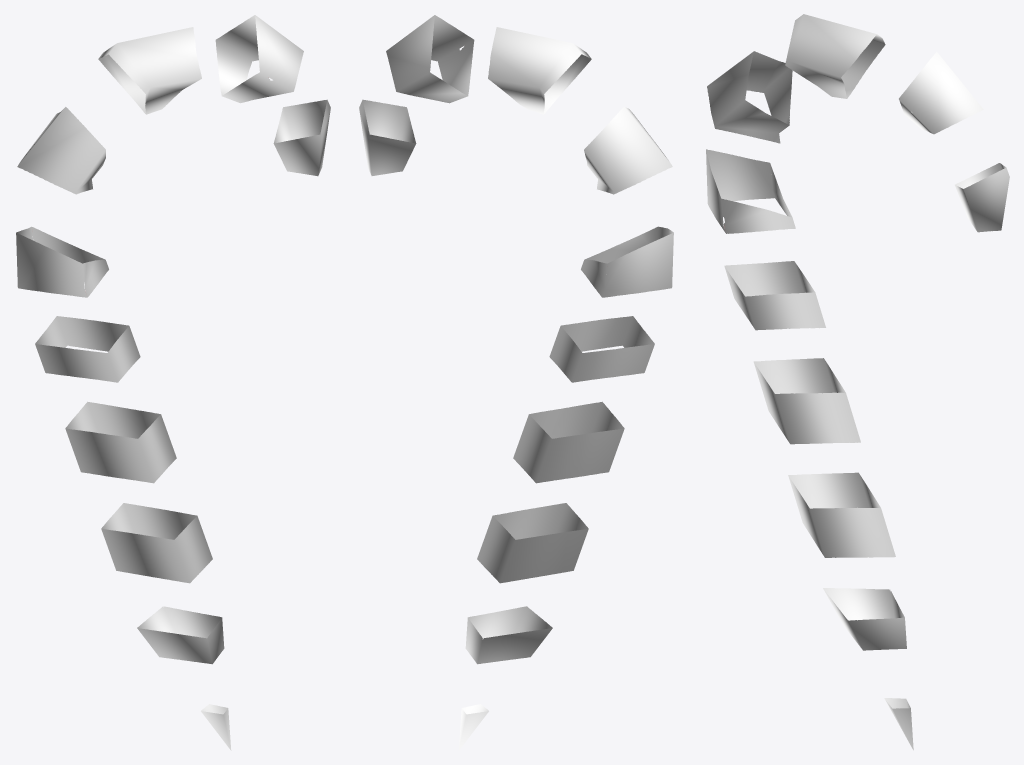
Rendered from candy_cane_01.fbx.
3 views of the same model, side by side, from view 1: azimuth 30°, elevation 25°; view 2: azimuth 150°, elevation 25°; view 3: azimuth 330°, elevation 25° (orthographic). The views are drawn at different scales.
Visible parts, largest first — view 1: Cylinder; view 2: Cylinder; view 3: Cylinder.
Boxes of the visible parts, x1,y1,x2,y2 form: Cylinder: (16, 15, 330, 750); Cylinder: (359, 15, 673, 750); Cylinder: (706, 14, 1009, 750).
Bounding box in the file's own units: 722 × 1602 × 200.
